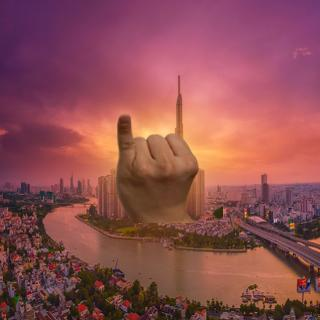FINE: (108, 109, 203, 211)
